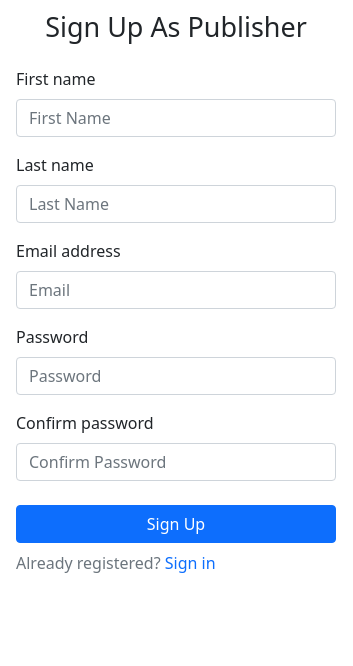
Testing SignUp component › Testing the component when the server send an error it should display the error
The width and height of the screenshot is (353, 666).
In the field with placeholder "First name": (176, 118) [16,99,336,137], type "test"
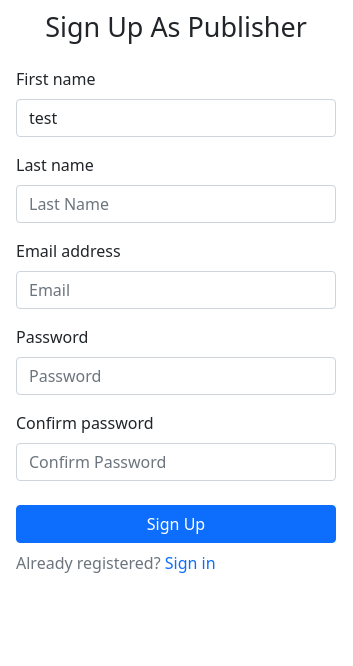
In the field with placeholder "Last name": (176, 204) [16,185,336,223], type "test"
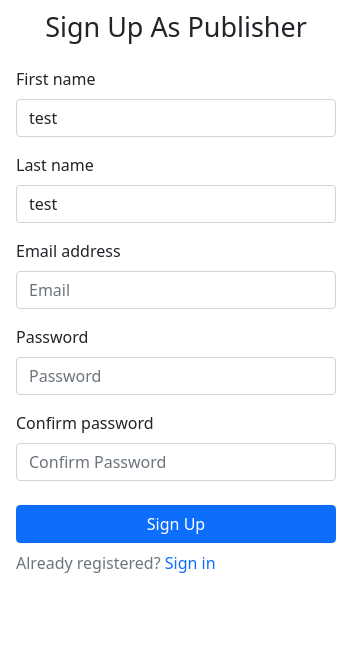
In the field with placeholder "Email": (176, 290) [16,271,336,309], type "testtest@email.com"
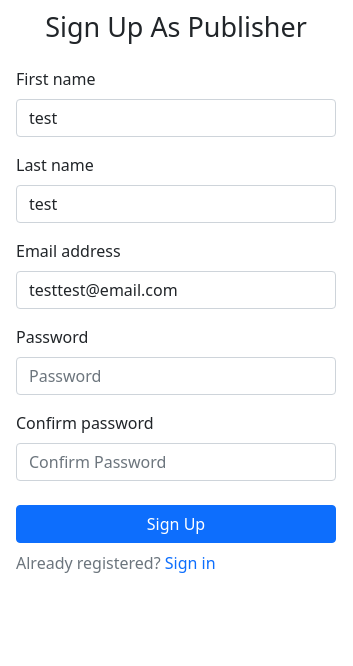
In the password field with placeholder "Password": (176, 376) [16,357,336,395], type "Q1!wasdf"
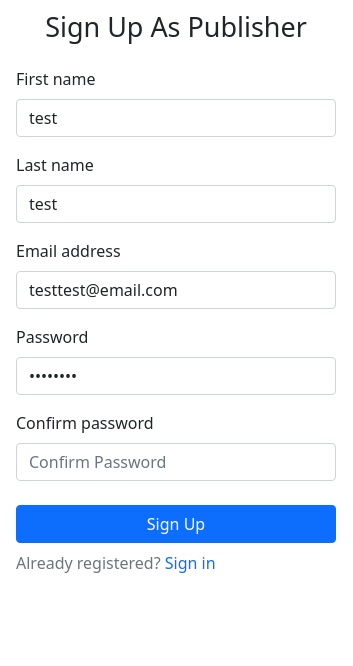
In the password field with placeholder "Confirm password": (176, 462) [16,443,336,481], type "Q1!wasdf"
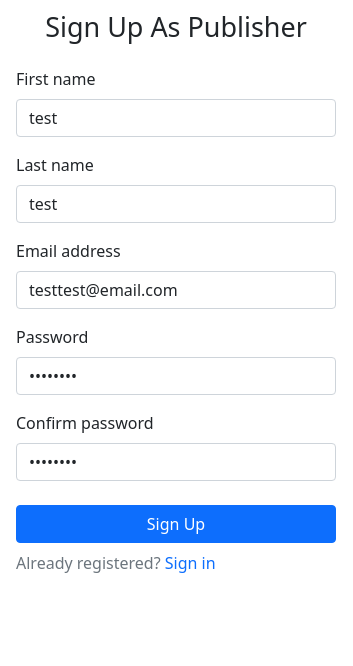
Click the button "Sign Up": (176, 524) [16,505,336,543]
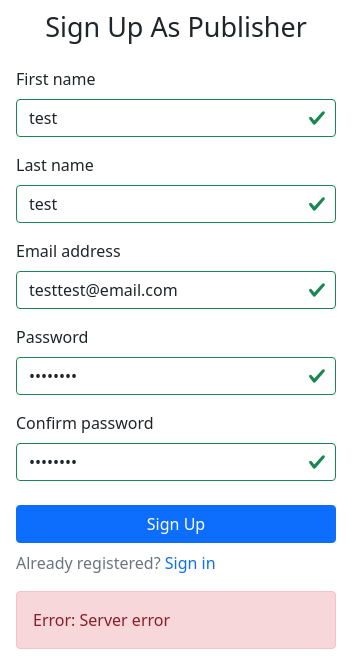
Result: the text "Error: Server error" is shown at [16,591,336,649]
